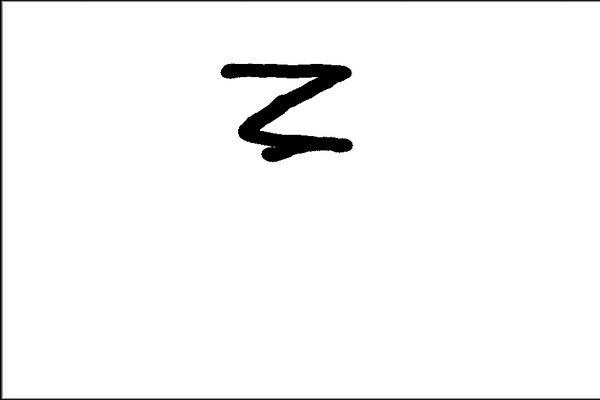Z: (214, 49, 366, 166)
